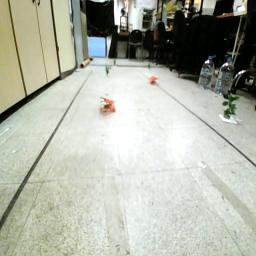herb: (222, 89, 242, 122), (106, 66, 112, 75)
wild: (100, 97, 118, 115), (149, 76, 162, 87)
